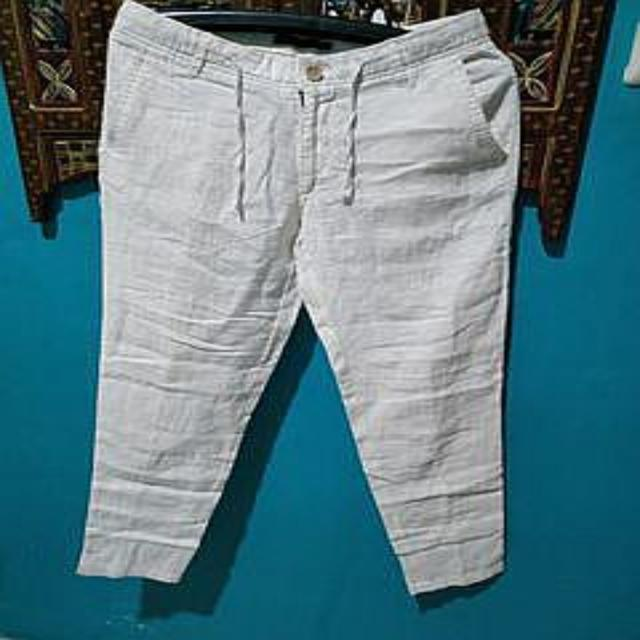TROUSER: (62, 0, 546, 608)
